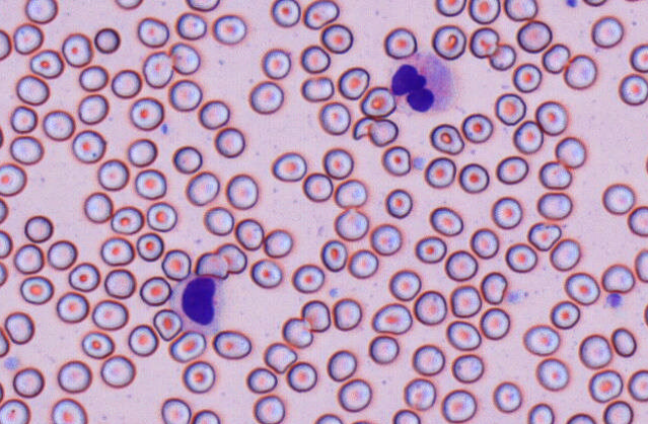GRAN: (390, 53, 455, 113)
MONO: (172, 273, 227, 329)
PLT: (605, 292, 623, 309), (3, 356, 19, 371), (161, 123, 170, 134)
RBC: (371, 302, 412, 334), (431, 24, 466, 60), (413, 289, 447, 325), (578, 333, 612, 369), (564, 271, 600, 305), (100, 354, 135, 388), (185, 170, 219, 205), (57, 359, 92, 393), (563, 54, 597, 89), (441, 388, 476, 422), (129, 96, 164, 130), (516, 20, 552, 53), (225, 173, 258, 209), (169, 330, 206, 362), (522, 324, 560, 355), (212, 329, 251, 359), (71, 129, 105, 163), (535, 357, 569, 391), (337, 378, 371, 412), (249, 80, 283, 114), (588, 369, 623, 402), (334, 208, 369, 241), (535, 100, 568, 135), (360, 86, 396, 118), (142, 51, 173, 88), (91, 299, 128, 330), (318, 101, 351, 135), (590, 15, 624, 48), (182, 360, 215, 393), (403, 377, 436, 410), (168, 79, 202, 111), (444, 249, 478, 281), (337, 66, 369, 100), (411, 343, 445, 375), (383, 27, 417, 59), (429, 123, 464, 154), (42, 109, 75, 141), (56, 291, 89, 323), (97, 158, 129, 191), (494, 92, 526, 125), (388, 269, 421, 301), (602, 182, 635, 214), (15, 74, 49, 105), (61, 33, 92, 67), (271, 151, 306, 181), (513, 119, 543, 154), (446, 320, 481, 350), (12, 366, 44, 398), (424, 156, 456, 188), (370, 223, 402, 255), (549, 238, 580, 271), (450, 284, 481, 317), (491, 196, 522, 229), (9, 135, 43, 165), (527, 221, 561, 251), (601, 263, 635, 293), (429, 206, 463, 236), (212, 14, 246, 44), (536, 191, 572, 219), (468, 26, 499, 58), (322, 147, 353, 179), (68, 261, 100, 292), (12, 22, 43, 54), (127, 324, 158, 356), (169, 42, 200, 74), (134, 168, 166, 199), (479, 307, 510, 339), (326, 349, 357, 381), (103, 268, 135, 299), (137, 16, 169, 47), (555, 136, 586, 168), (461, 112, 493, 143), (152, 308, 182, 341), (291, 263, 324, 293), (300, 299, 330, 332), (100, 236, 133, 266), (4, 311, 34, 344), (332, 297, 362, 330), (334, 178, 367, 208), (451, 353, 484, 383), (320, 23, 353, 53), (538, 160, 572, 189), (19, 275, 53, 304), (29, 49, 63, 78), (50, 397, 87, 423), (282, 317, 313, 348), (286, 361, 317, 392), (13, 243, 44, 274), (214, 126, 245, 157), (458, 162, 489, 193), (146, 201, 177, 232), (77, 93, 108, 124), (110, 68, 142, 98), (161, 248, 191, 280), (250, 258, 282, 288), (139, 276, 171, 306), (505, 242, 537, 272), (261, 47, 291, 79), (252, 394, 285, 423), (495, 155, 528, 184), (110, 205, 143, 234), (492, 381, 522, 412), (216, 243, 247, 273), (302, 172, 333, 202), (47, 239, 77, 270), (368, 334, 399, 364), (381, 145, 411, 176), (198, 99, 229, 129), (83, 191, 112, 223), (235, 218, 264, 250), (618, 73, 647, 105), (81, 331, 114, 359), (300, 75, 334, 102), (348, 248, 378, 278), (127, 137, 157, 167), (512, 62, 542, 92), (203, 206, 234, 235), (541, 42, 570, 73), (470, 227, 499, 258), (414, 235, 446, 263), (0, 162, 26, 196), (550, 300, 580, 329), (300, 44, 330, 73), (320, 239, 347, 271), (175, 12, 207, 39), (263, 228, 292, 257), (368, 118, 398, 146), (172, 145, 202, 173), (384, 188, 412, 218), (246, 366, 277, 393), (135, 232, 163, 261), (24, 214, 53, 242), (78, 64, 108, 91), (270, 0, 300, 27), (160, 397, 191, 423), (488, 43, 516, 71), (9, 105, 37, 133), (611, 327, 637, 357), (468, 0, 500, 24), (0, 398, 30, 423), (25, 0, 57, 23), (602, 400, 633, 423), (93, 27, 120, 53), (504, 0, 537, 21), (627, 369, 647, 401), (627, 205, 647, 236), (527, 402, 554, 423), (629, 43, 647, 72), (435, 0, 466, 16), (634, 248, 647, 282), (392, 408, 420, 423), (191, 409, 220, 423), (186, 0, 220, 11), (0, 28, 11, 60), (0, 229, 12, 258), (565, 412, 596, 423), (314, 412, 343, 423), (0, 327, 9, 357), (114, 0, 142, 9), (0, 260, 8, 286), (0, 197, 8, 223), (583, 0, 607, 6), (350, 418, 374, 423), (0, 124, 4, 148), (643, 303, 647, 326), (565, 0, 578, 7), (644, 153, 648, 175), (0, 381, 4, 402), (624, 0, 644, 2)
Schistocyte: (304, 0, 341, 31), (265, 342, 299, 374), (196, 252, 230, 280), (481, 271, 509, 304), (354, 117, 378, 139)
